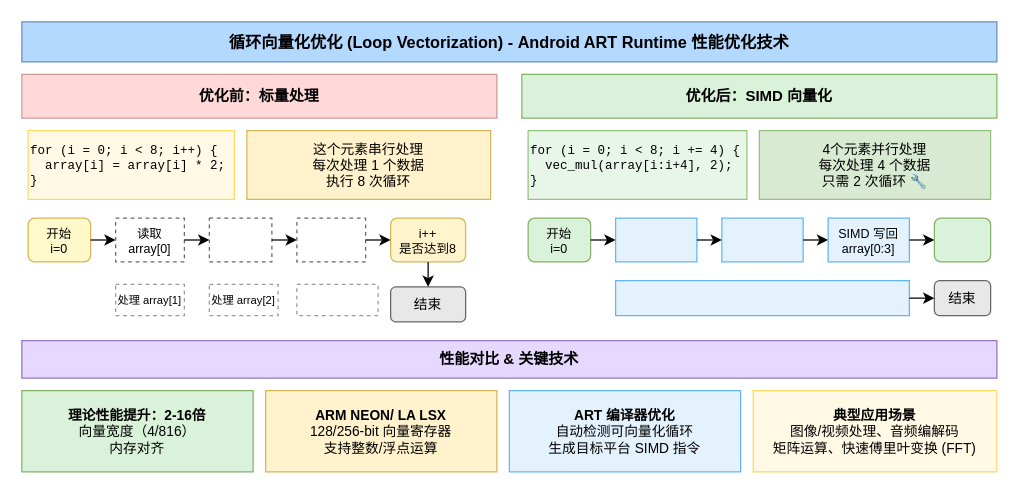
This 1019x494 diagram has some shape labels left out. The shapes that lost their labels are listed below. From the top down, each one's centre as x and y in pixels, then its label:
At [240,239]: "执行 * 2".
At [331,239]: "写回 array[0]".
At [655,239]: "SIMD 读取 array[0:3]".
At [762,239]: "并行 *2 (4个数据)".
At [962,239]: "i+=4".
At [337,299]: "... 继续处理 ...".
At [761,297]: "第2次循环：处理 array[4:7]".
